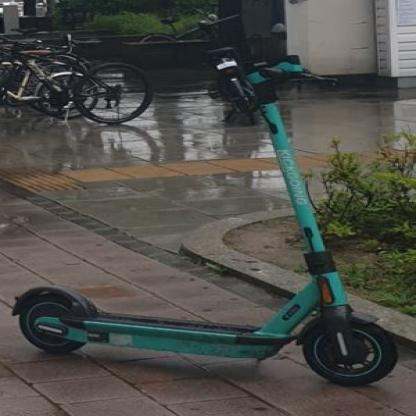kickboard: (11, 63, 399, 387)
